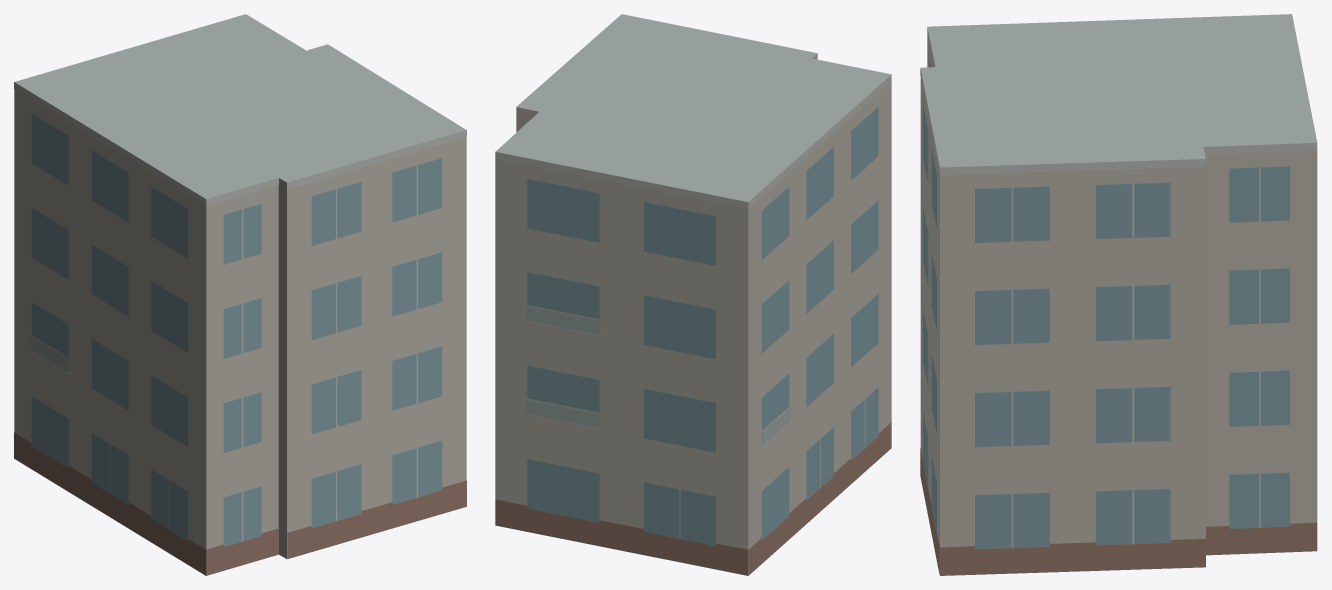
File: survey-upis-32662737.glb
3 renders of one model, left to right at view 1: azimuth 30°, elevation 25°; view 2: azimuth 150°, elevation 25°; view 3: azimuth 270°, elevation 25°, orthographic. The views are drawn at different scales.
Parts seen in each view (by area): view 1: survey-upis-32662737.tmp; view 2: survey-upis-32662737.tmp; view 3: survey-upis-32662737.tmp.
Boxes of the visible parts, bbox=[...] form: survey-upis-32662737.tmp: bbox=[14, 14, 466, 575]; survey-upis-32662737.tmp: bbox=[495, 14, 891, 575]; survey-upis-32662737.tmp: bbox=[920, 14, 1317, 575].
Bounding box in the file's own units: 10.49 × 13 × 11.46.
